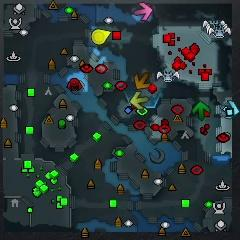p4: (92, 28, 112, 46)
x1: (134, 2, 153, 21)
x2: (129, 91, 149, 110)
x3: (222, 100, 240, 119)
x4: (192, 101, 210, 121)
x5: (134, 72, 152, 90)
